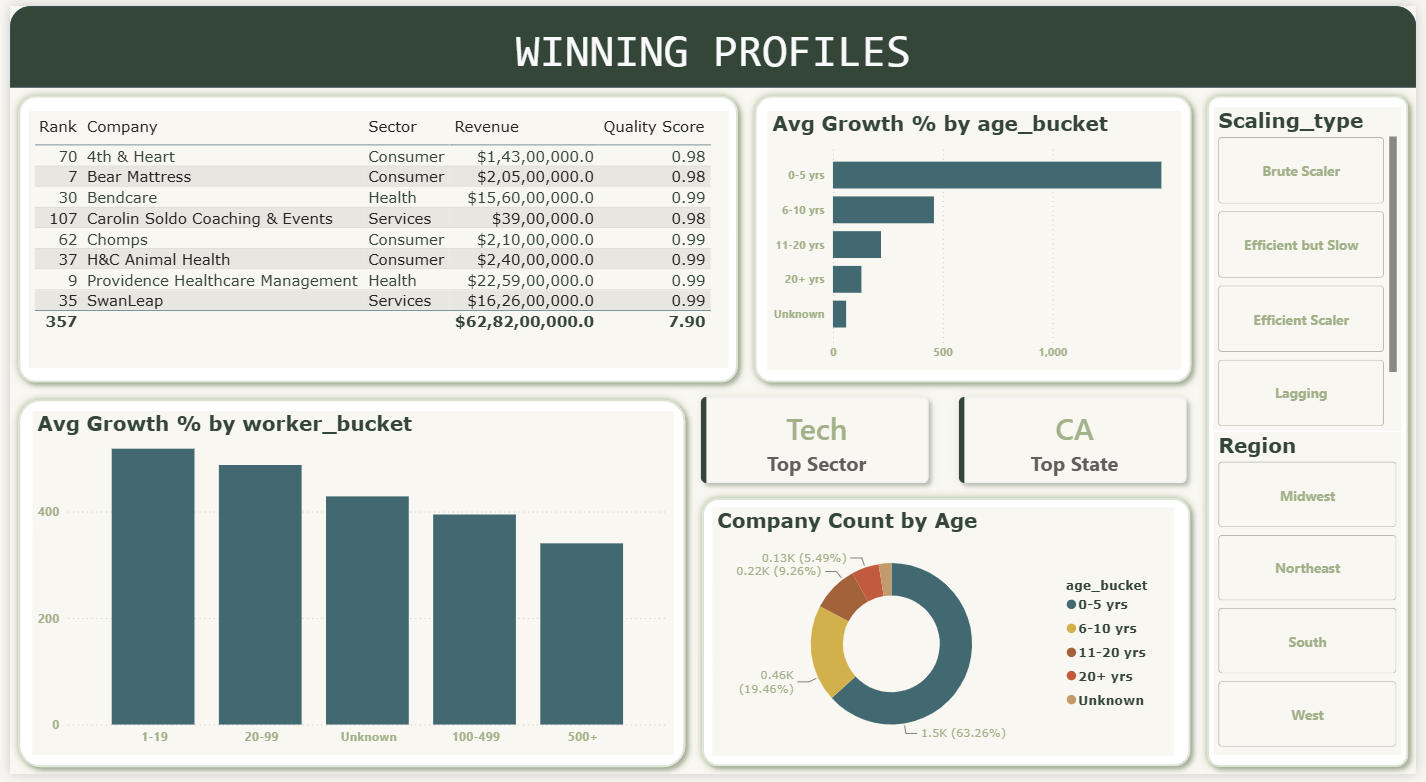

Layout of this report page (visuals, bound fields, positions):
{"tool":"powerbi","page":{"name":"Page 3","canvas":[1500,820],"ordinal":2},"visuals":[{"type":"shape","box":[0,0,1500,87.1],"z":0},{"type":"textbox","box":[0,14.7,1500,72.1],"z":1000},{"type":"cardVisual","fields":{"Data":["inc5000_analytics companies.Top Sector","inc5000_analytics companies.Top State"]},"box":[708,388,576,150.7],"z":2000},{"type":"shape","box":[0,86.7,785.3,324],"z":3000},{"type":"tableEx","fields":{"Values":["Sum(inc5000_analytics companies.company_rank)","inc5000_analytics companies.name","inc5000_analytics companies.sector","Sum(inc5000_analytics companies.revenue_usd)","Sum(inc5000_analytics companies.growth_quality_score)"]},"box":[20,112,746.7,274.7],"z":4000},{"type":"shape","box":[785.3,86.7,484,324],"z":5000},{"type":"clusteredBarChart","fields":{"Category":["inc5000_analytics companies.age_bucket"],"Y":["inc5000_analytics companies.Avg Growth %"]},"box":[808,112,441.3,276],"z":6000},{"type":"shape","box":[0,410.3,729.4,410.3],"z":7000},{"type":"lineStackedColumnComboChart","fields":{"Category":["inc5000_analytics companies.worker_bucket"],"Y":["inc5000_analytics companies.Avg Growth %"]},"box":[24,432,684,366.7],"z":8000},{"type":"shape","box":[1267.6,86.8,232.4,733.8],"z":9000},{"type":"advancedSlicerVisual","fields":{"Values":["inc5000_analytics companies.region"]},"box":[1283.6,454.3,200,344.3],"z":10000},{"type":"advancedSlicerVisual","fields":{"Values":["inc5000_analytics companies.scaling_type"]},"box":[1283.6,108.6,200,345],"z":11000},{"type":"shape","box":[729.3,516,538.7,304],"z":12000},{"type":"donutChart","title":"Company Count by Age","fields":{"Category":["inc5000_analytics companies.age_bucket"],"Y":["inc5000_analytics companies.Avg Growth %"]},"box":[749.3,534.7,492,265.3],"z":13000}]}

Visuals, with their boxes in screenshot pixels (x1, y1, x2, y2), scaled from the page's 1500x820 canvas onto the 1426x782 screenshot:
shape: bbox=[0, 0, 1425, 83]
textbox: bbox=[0, 14, 1425, 83]
cardVisual - inc5000_analytics companies.Top Sector x inc5000_analytics companies.Top State: bbox=[673, 370, 1221, 514]
shape: bbox=[0, 83, 747, 392]
tableEx - Sum(inc5000_analytics companies.company_rank) x inc5000_analytics companies.name: bbox=[19, 107, 729, 369]
shape: bbox=[747, 83, 1207, 392]
clusteredBarChart - inc5000_analytics companies.age_bucket x inc5000_analytics companies.Avg Growth %: bbox=[768, 107, 1188, 370]
shape: bbox=[0, 391, 693, 781]
lineStackedColumnComboChart - inc5000_analytics companies.worker_bucket x inc5000_analytics companies.Avg Growth %: bbox=[23, 412, 673, 762]
shape: bbox=[1205, 83, 1425, 781]
advancedSlicerVisual - inc5000_analytics companies.region: bbox=[1220, 433, 1410, 762]
advancedSlicerVisual - inc5000_analytics companies.scaling_type: bbox=[1220, 104, 1410, 433]
shape: bbox=[693, 492, 1205, 781]
"Company Count by Age" donutChart: bbox=[712, 510, 1180, 763]
